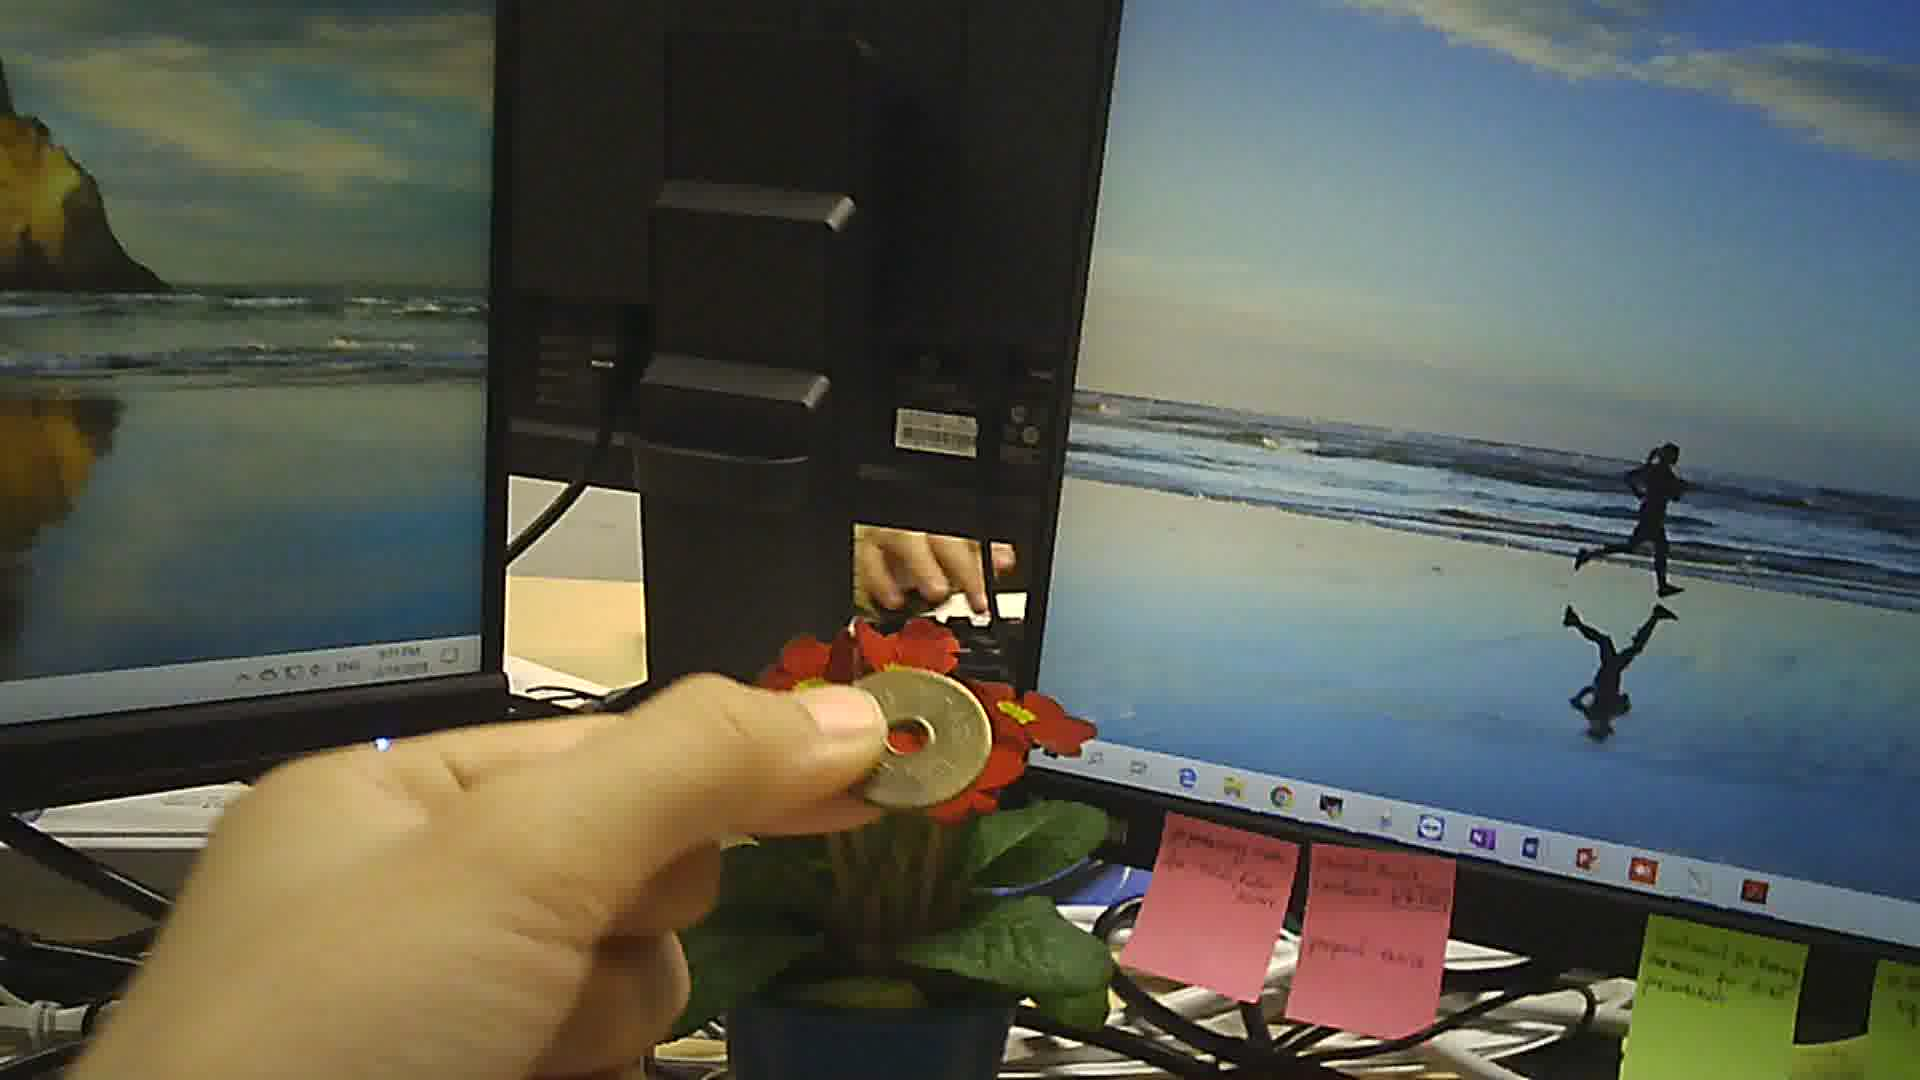5 Yen: (833, 659, 1005, 814)
